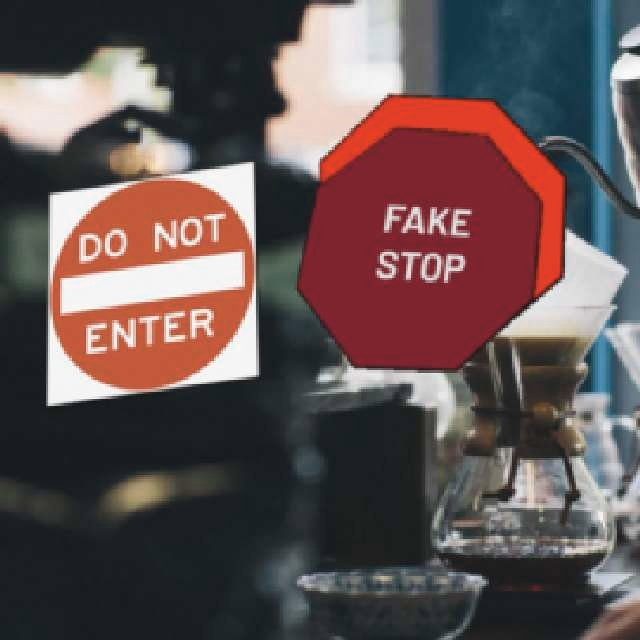DO_NOT_ENTER: (44, 158, 259, 406)
FAKE_STOP: (293, 125, 541, 370)
STOP: (317, 92, 565, 338)
